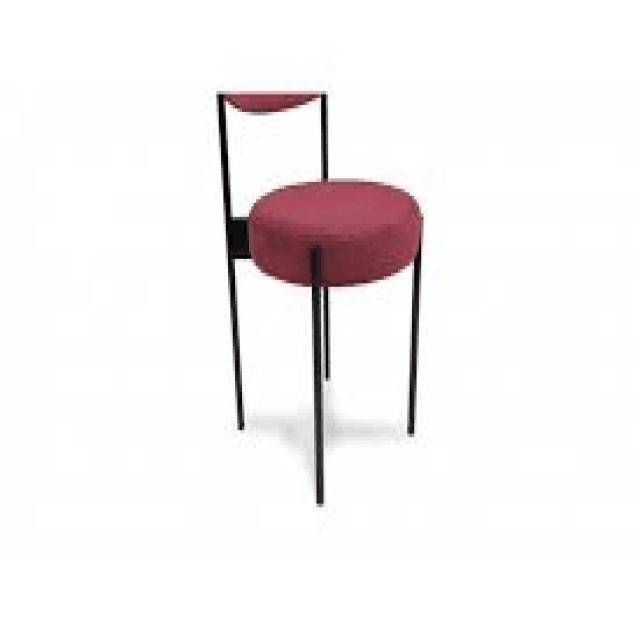chair: (213, 85, 429, 509), (221, 92, 424, 290)
